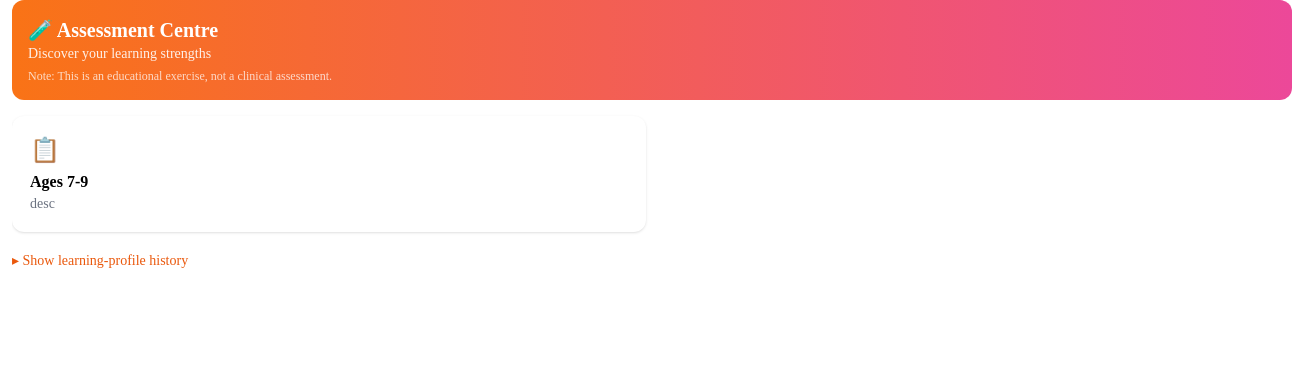
Test: AssessmentCentre › loads a filtered retake assessment when "Retake these" is clicked
The image size is (1292, 375).
Expected: the text "Ages 7-9" is shown, [30, 173, 88, 190]
Step 1. Click the button "▸ Show learning-profile history" → (100,261), box [12, 251, 188, 271]
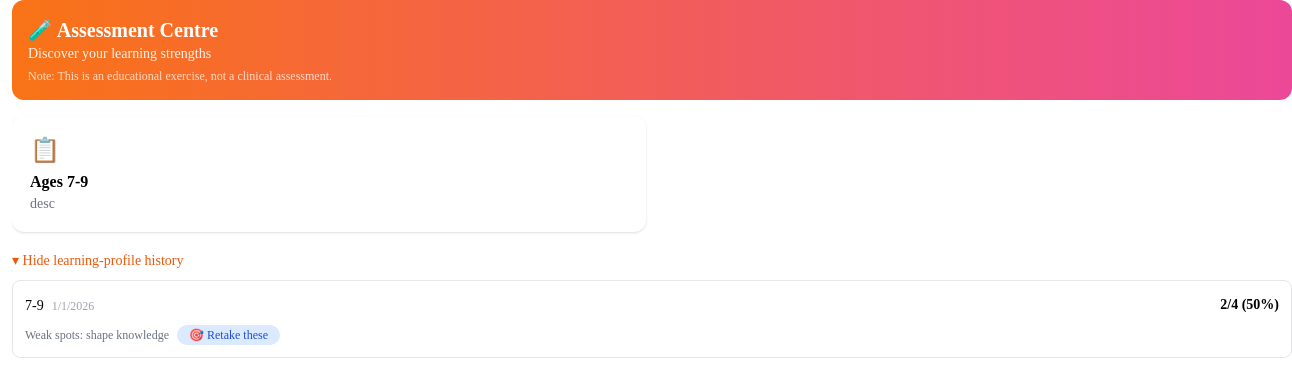
Now the button "🎯 Retake these" is shown
Step 2. Click the button "🎯 Retake these" → (228,335), box [177, 325, 280, 345]
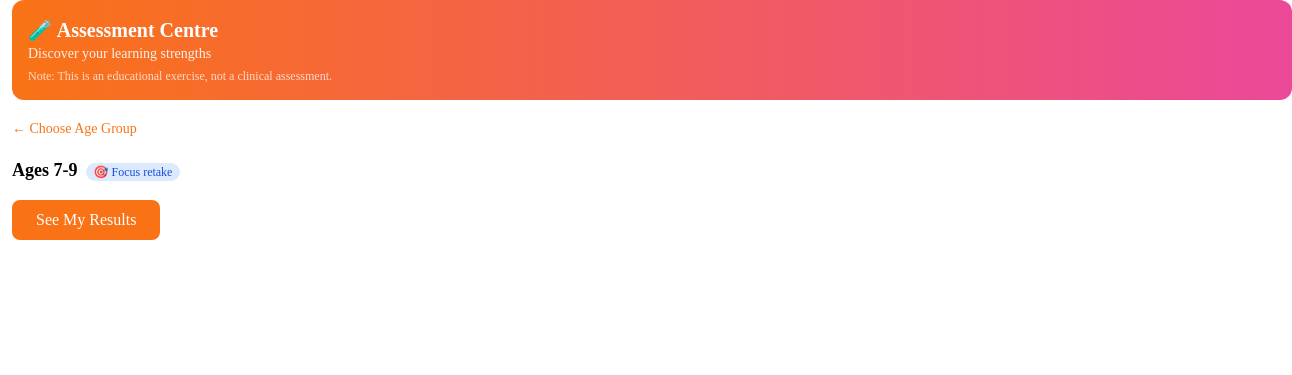
Now the text "🎯 Focus retake" is shown, box [86, 163, 180, 181]
